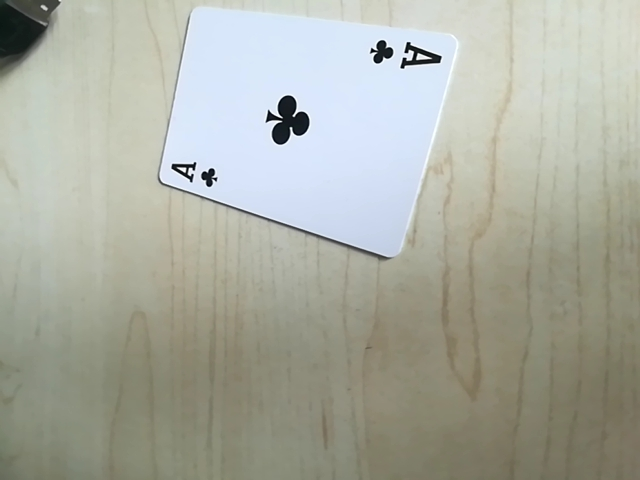mh a: (361, 32, 447, 75), (163, 154, 224, 192)
